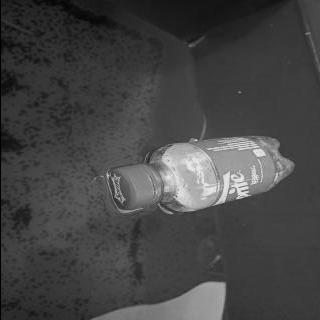bottle: (105, 135, 294, 213)
